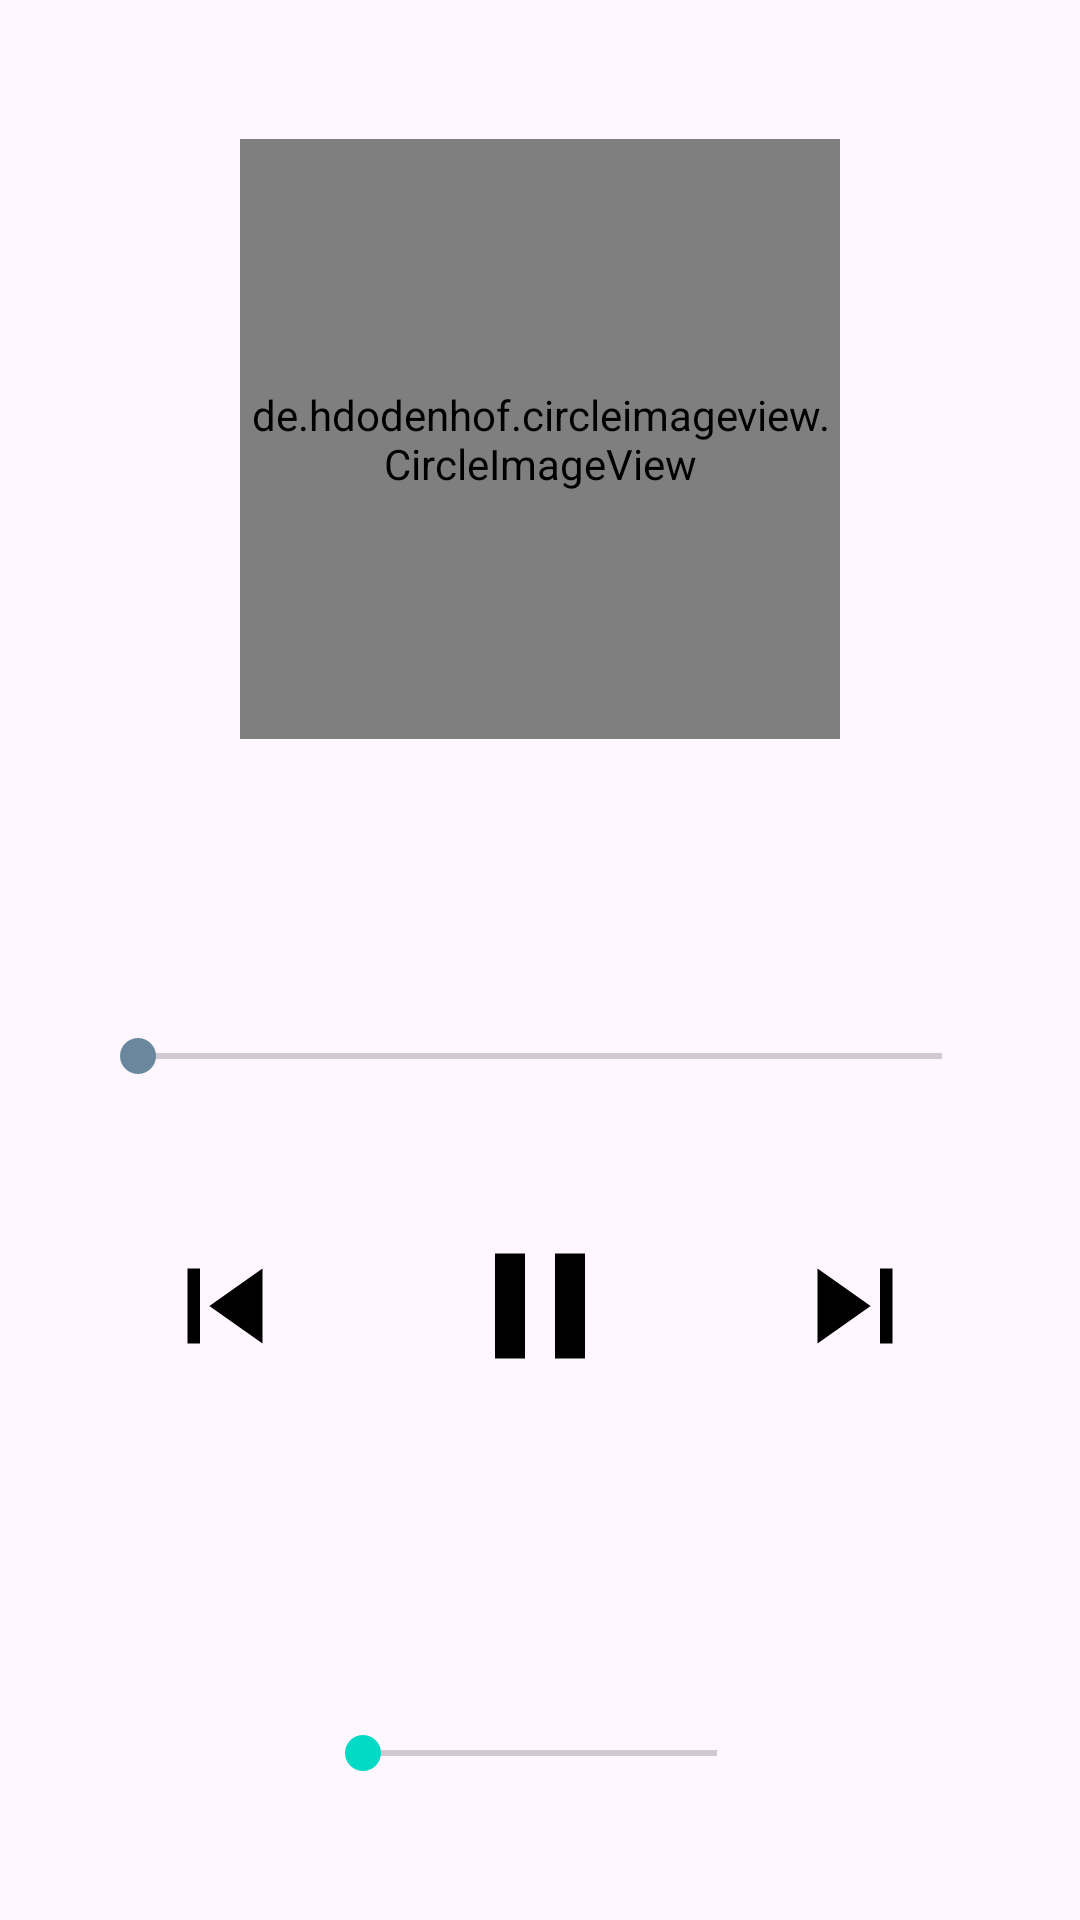

Screen size 1080 x 1920. Icon name, then its center in pixels as (x=x, y=y):
next: (x=855, y=1306)
pause: (x=540, y=1306)
previous: (x=225, y=1306)
